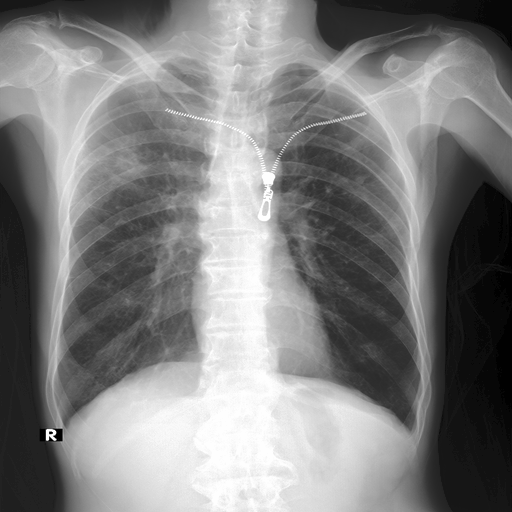Aortic enlargement: (63, 92, 160, 227)
Calcification: (121, 56, 206, 78), (399, 422, 419, 441)
Pleural effusion: (399, 422, 419, 441)
Pleural thickening: (112, 144, 155, 180), (355, 171, 375, 188)
Pneumothorax: (88, 123, 159, 197), (323, 145, 392, 203), (112, 144, 155, 180), (355, 171, 375, 188)
